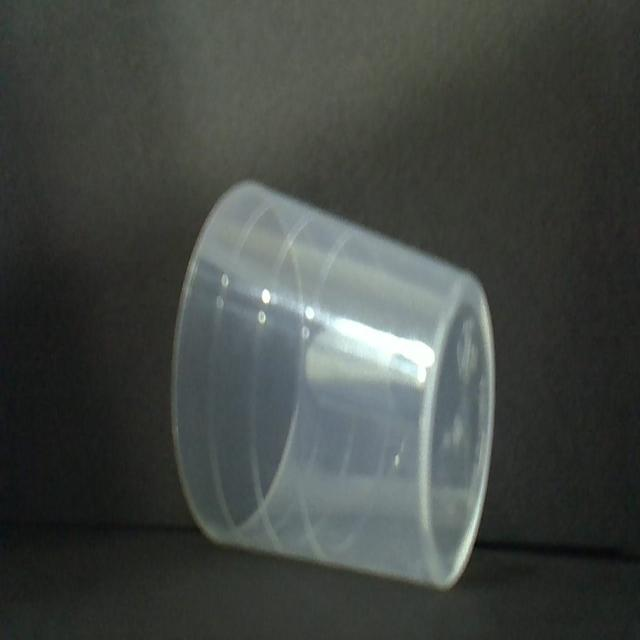cup: (166, 173, 499, 600)
